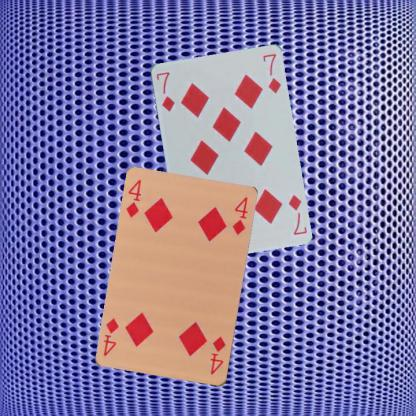4d: (123, 178, 143, 220), (208, 334, 227, 376)
7d: (153, 68, 176, 112), (285, 192, 308, 236)
